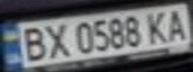0: (72, 19, 96, 55)
5: (90, 16, 112, 52)
8: (121, 12, 145, 47), (106, 15, 127, 49)
A: (160, 6, 193, 42)
B: (15, 24, 51, 63)
K: (142, 8, 175, 45)
X: (39, 20, 72, 60)
